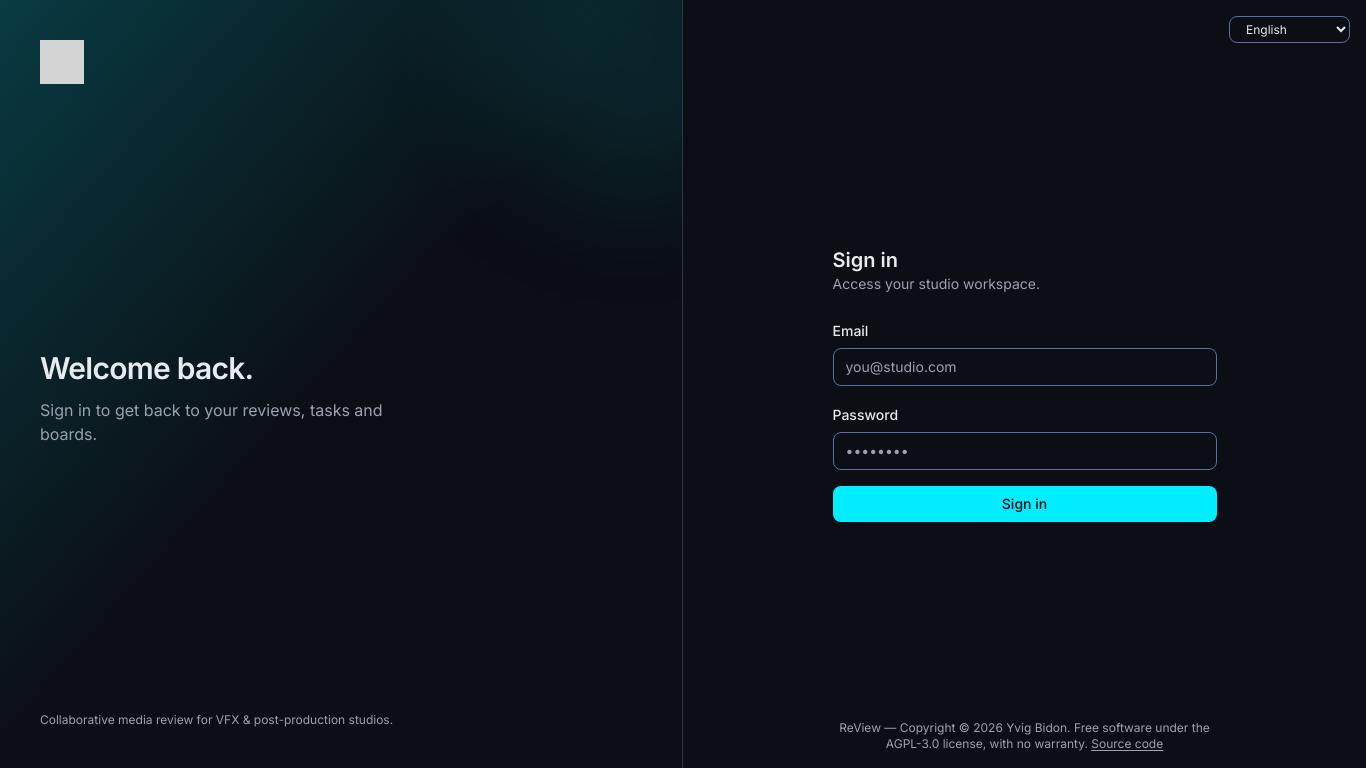
Scenario: LoginPage › refuses wrong credentials without leaving the page or opening a session
In the field labelled "Email": (1024, 367) [832,348,1216,386], type "ada@review.local"
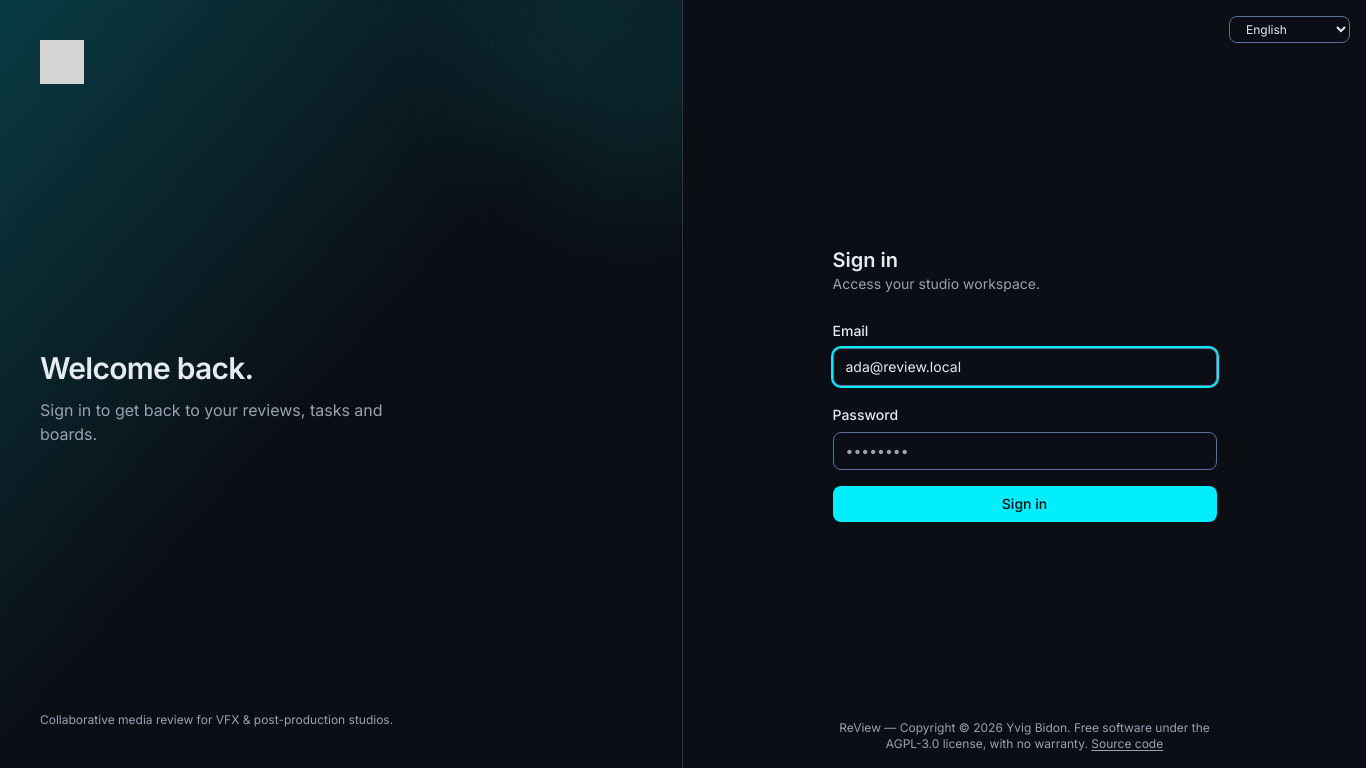
In the password field labelled "Password": (1024, 451) [832,432,1216,470], type "hunter2hunter2"
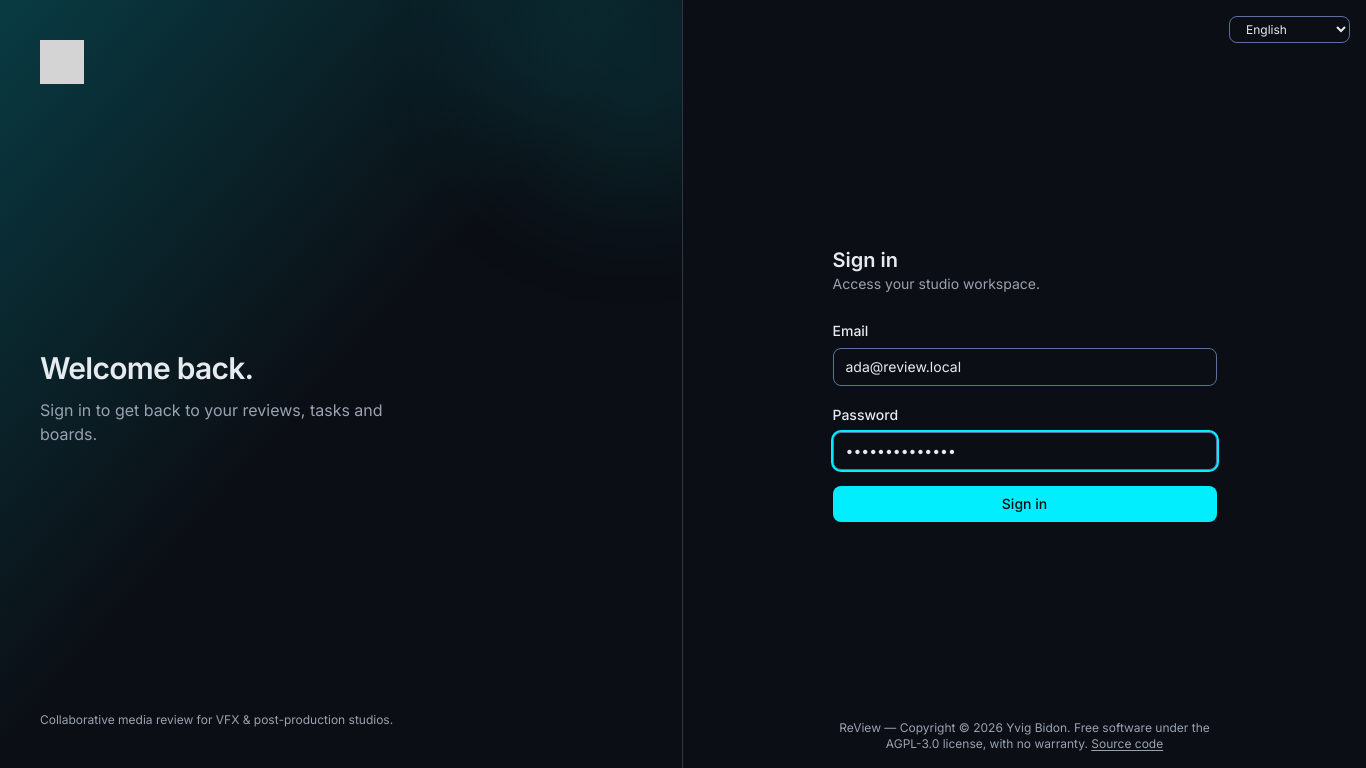
Click the button "Sign in": (1024, 504) [832,486,1216,522]
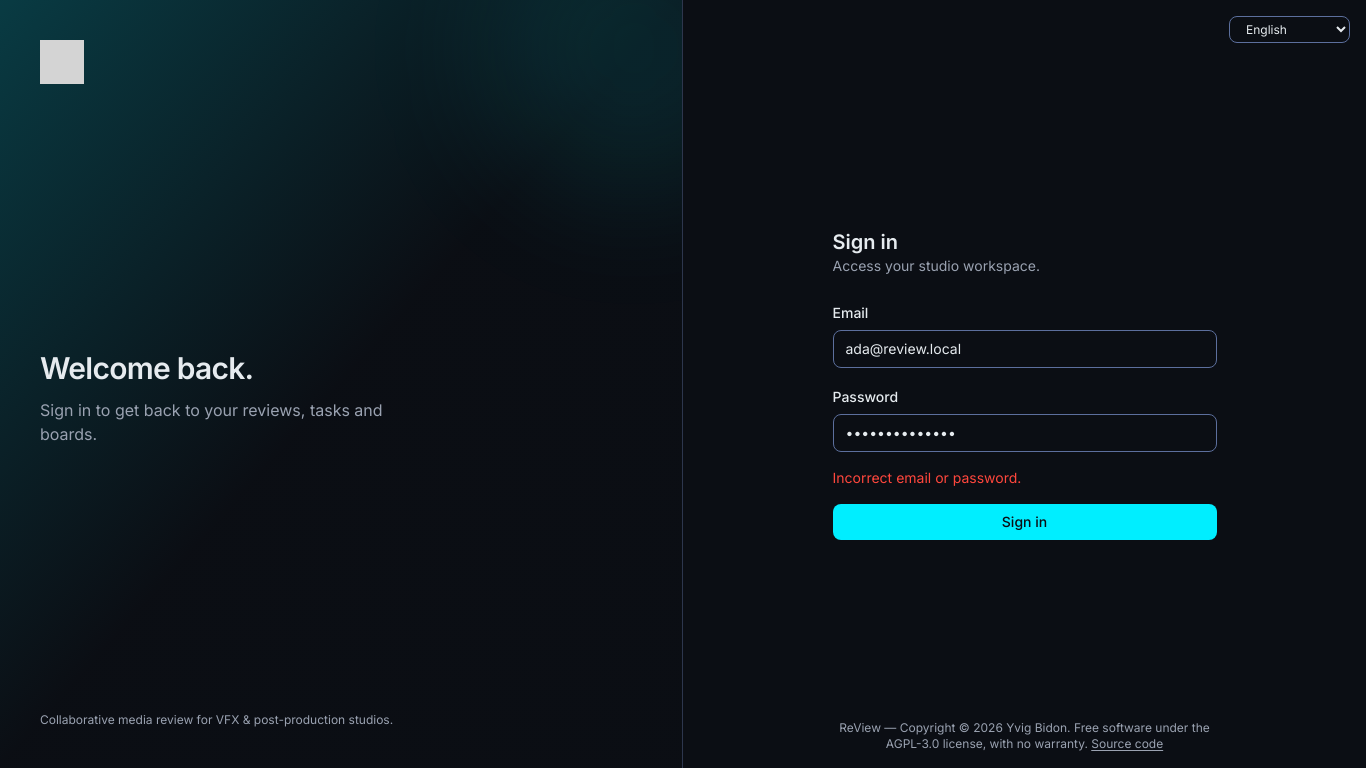
Expected: the button "Sign in" is enabled, [832,504,1216,540]
Now the text "Incorrect email or password." is shown, box [832,469,1021,486]
